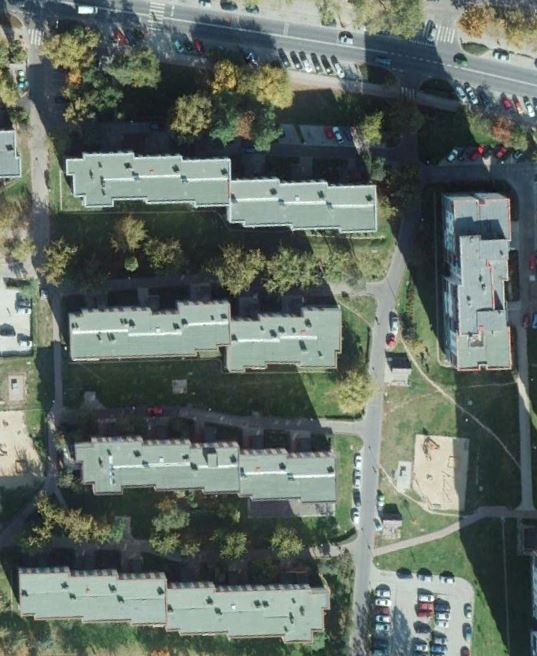block of flats: (62, 147, 381, 236), (13, 560, 333, 646), (63, 297, 348, 372), (66, 431, 340, 505), (433, 182, 519, 375)
